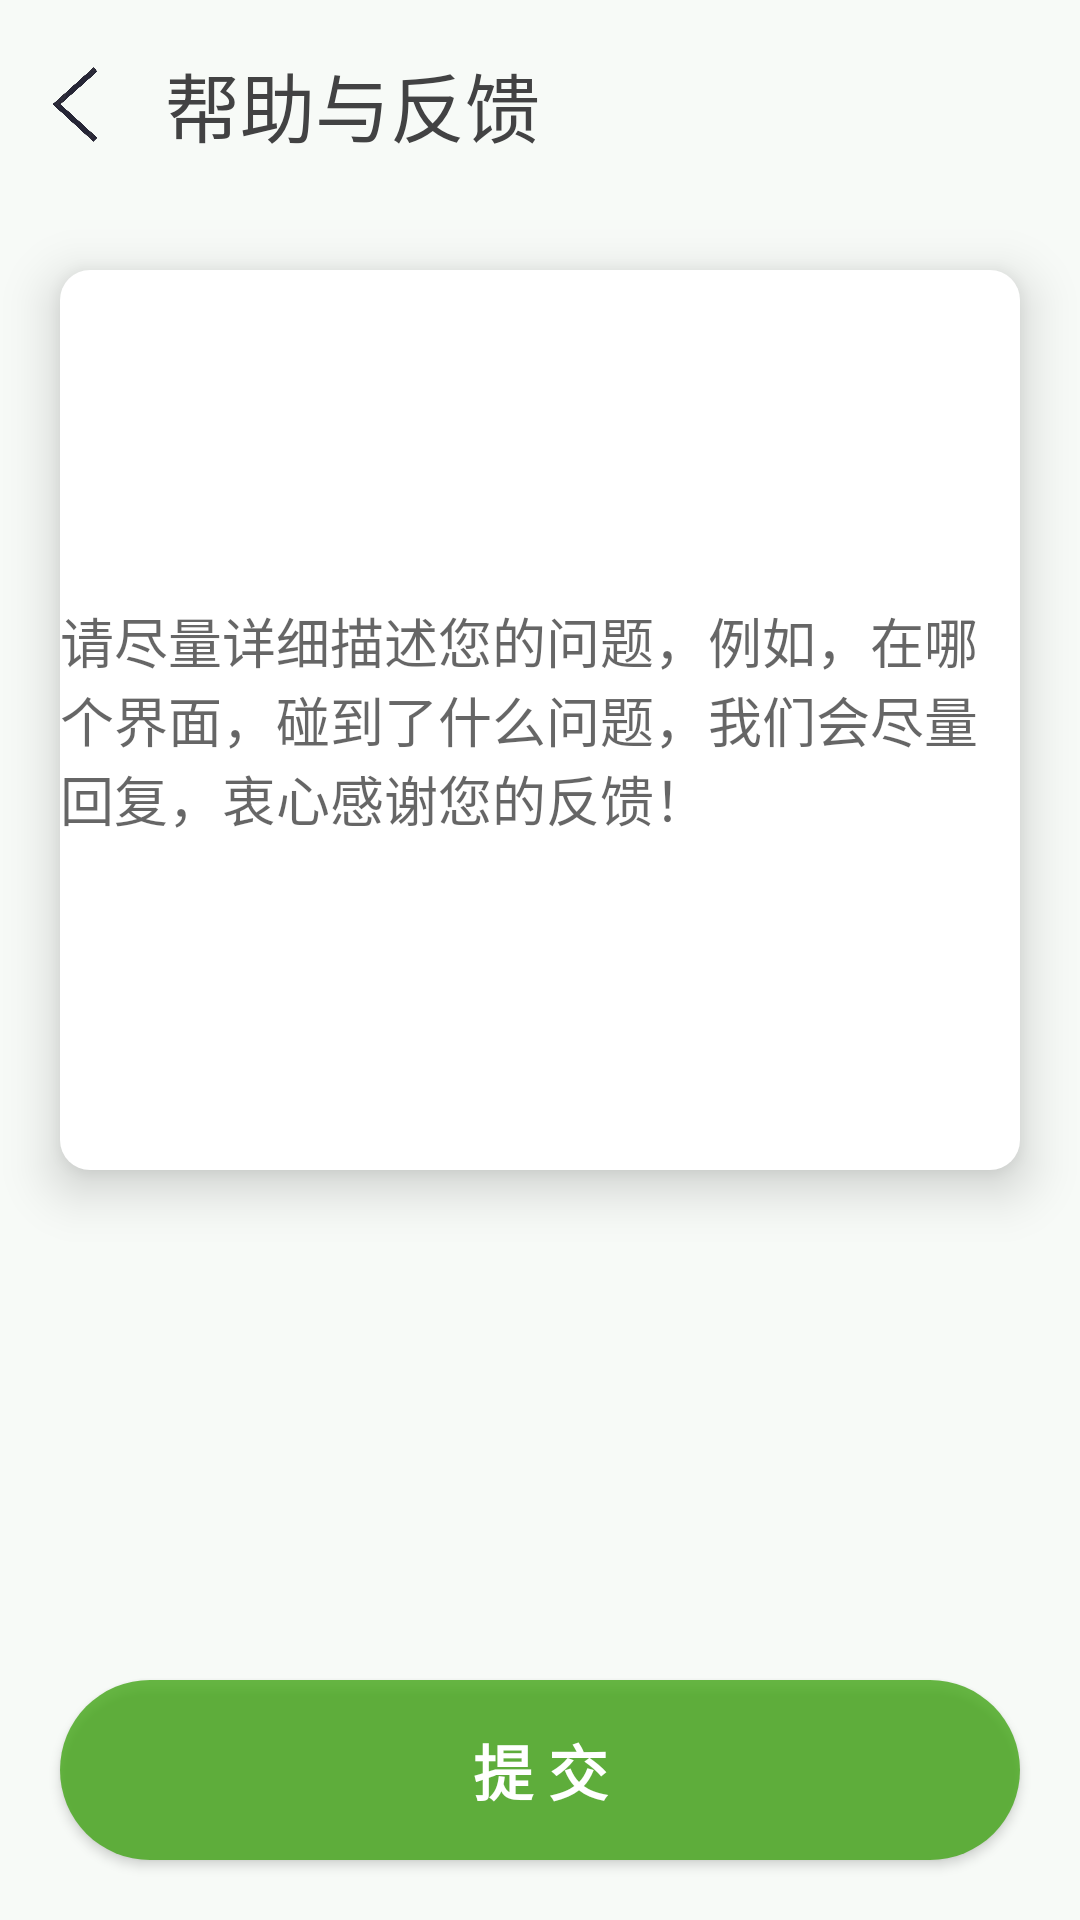

Icons on this 1080 x 1920 Android screen, each with its box as [left=x1, top=y1, right=x2, bottom=y2]:
arrow left: [left=53, top=67, right=97, bottom=142]
